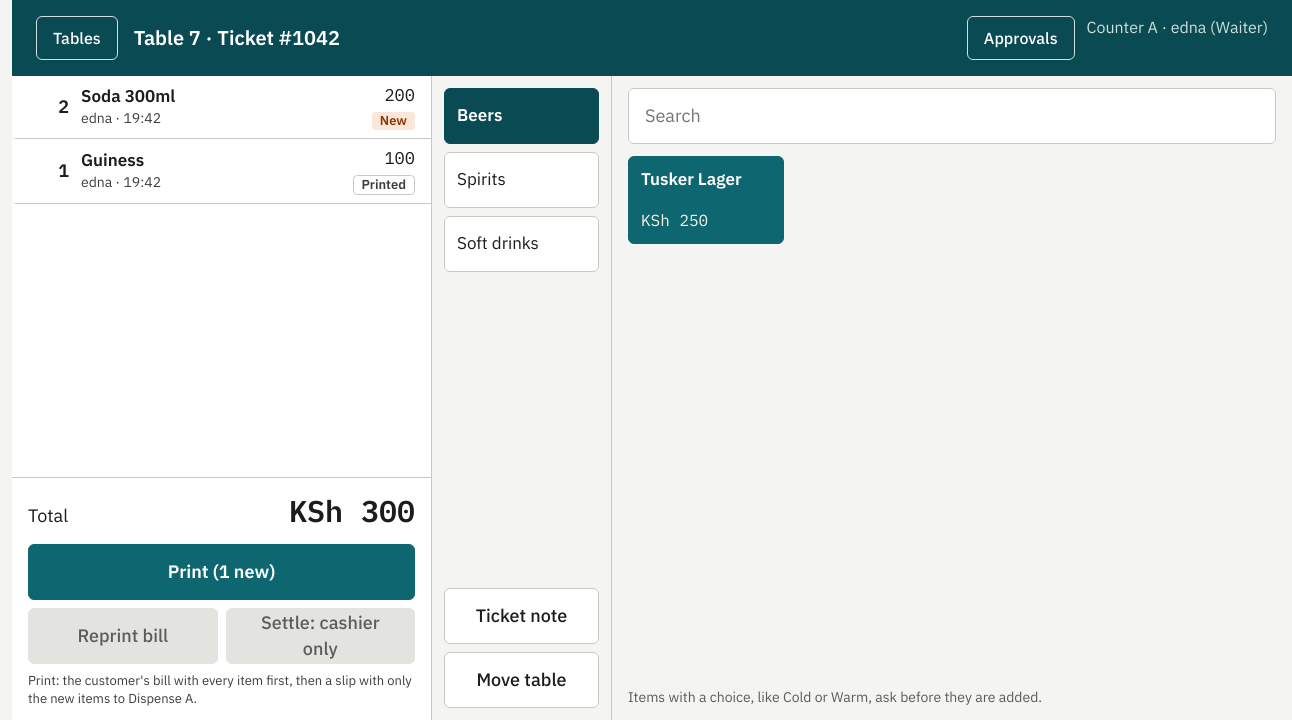
Test: order screen › a New line has −, + and Remove; a Printed line has the actions the user may do
Step 1. Click the button "2 Soda 300ml edna · 19:42 200 New" → (128, 96), box [12, 76, 431, 139]
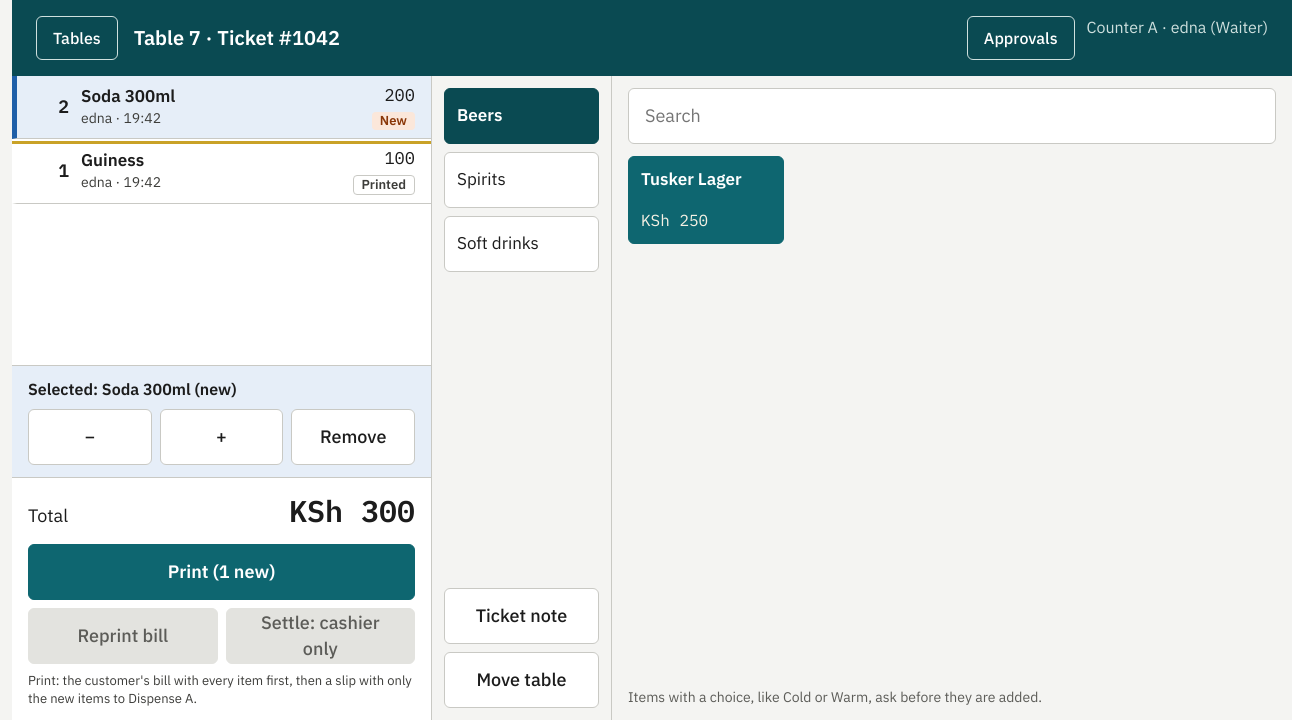
Check: the text "Selected: Soda 300ml (new)" is shown, box [28, 379, 237, 399]
Step 2. Click the button named "One more" → (222, 437), box [160, 409, 283, 465]
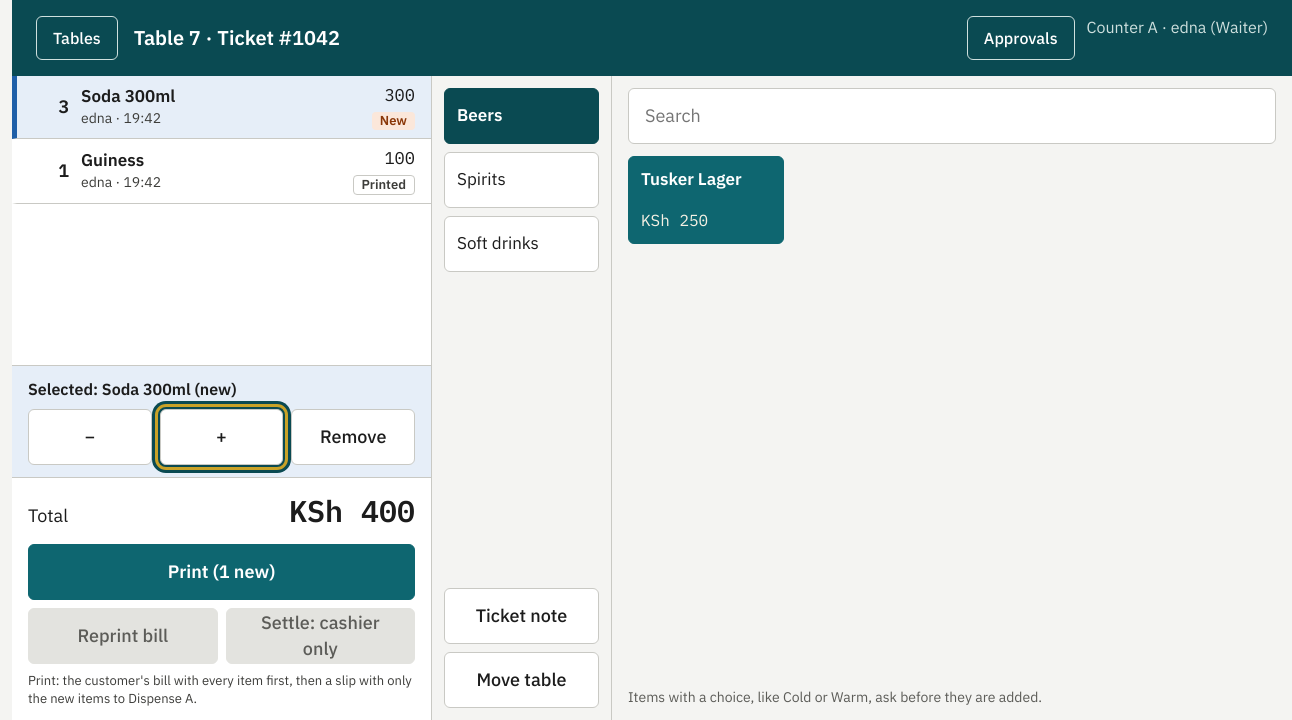
Check: the button "3 Soda 300ml edna · 19:42 300 New" is shown, box [12, 76, 431, 139]
Step 3. Click the button "Remove" → (353, 437), box [291, 409, 415, 465]
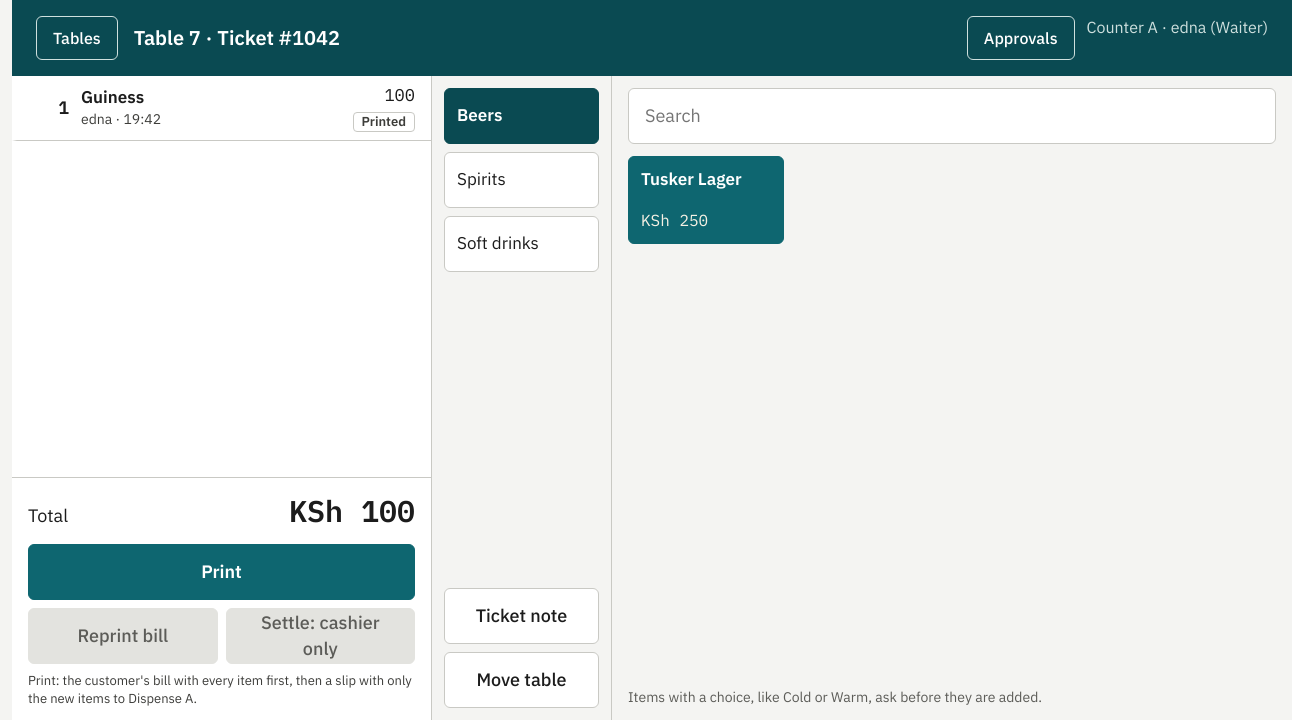
Check: the text "Selected: Soda" is gone
Step 4. Click the button "1 Guiness edna · 19:42 100 Printed" → (113, 97), box [12, 76, 431, 141]
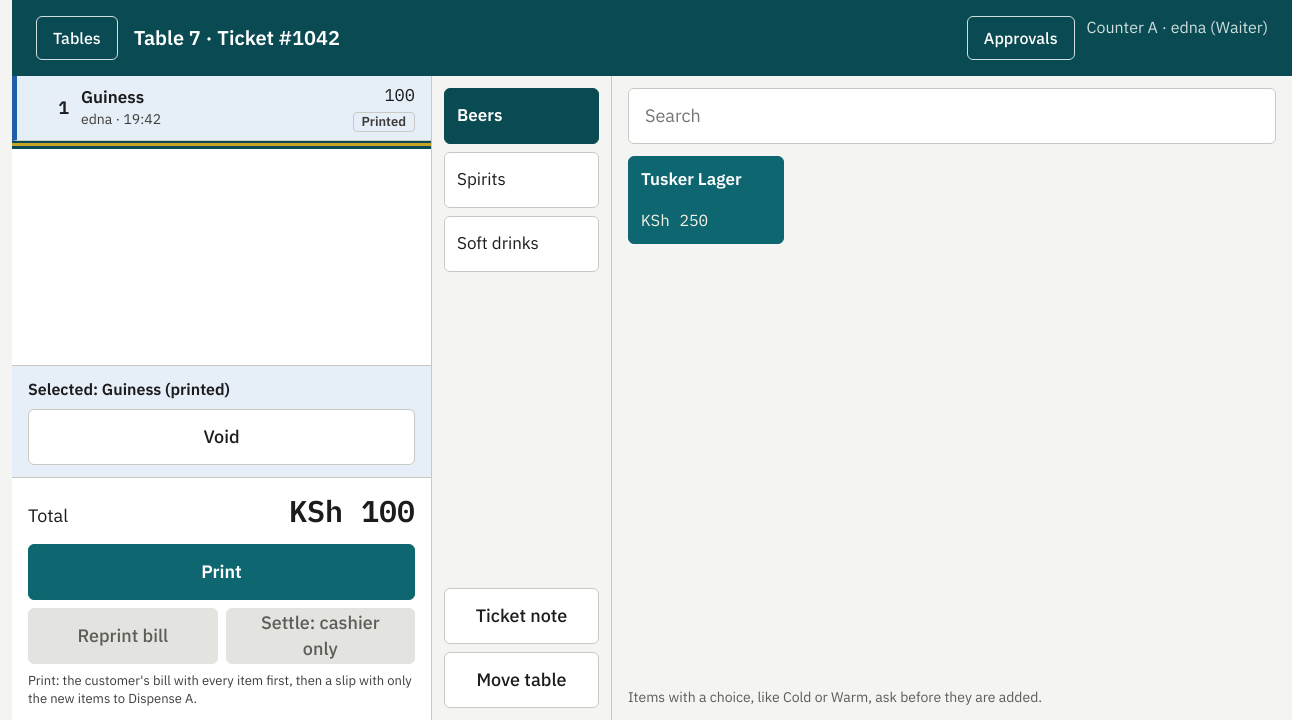
Check: the button "Void" is enabled, box [28, 409, 415, 465]
